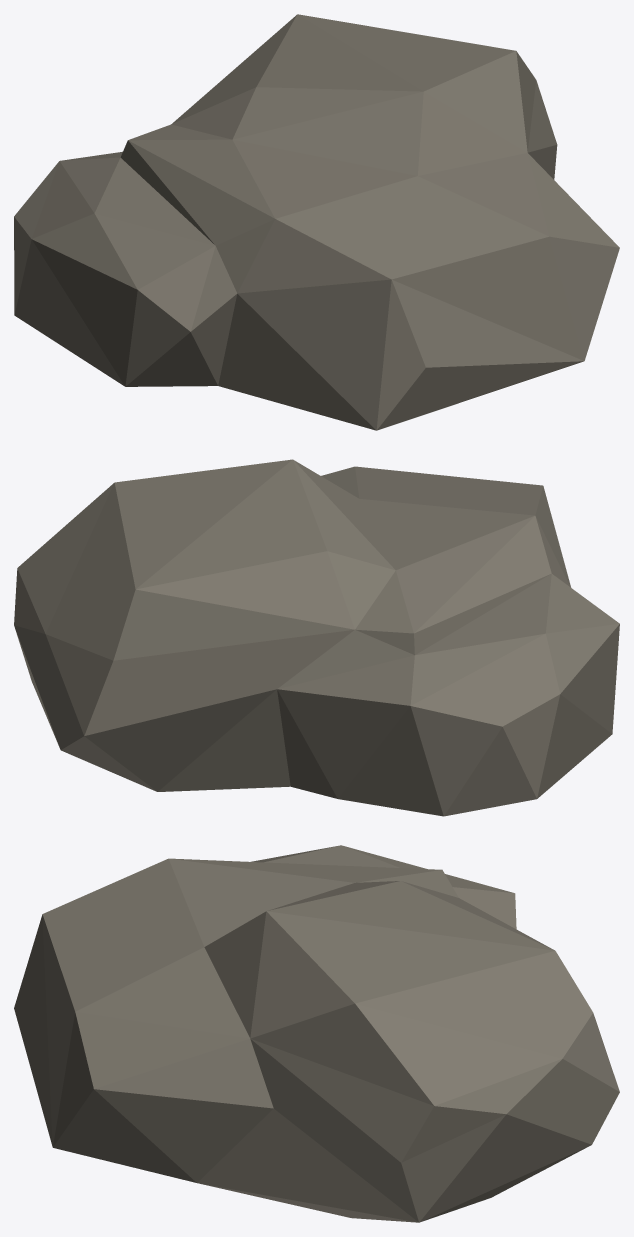
Rendered from rock__rock1_cave_light.glb.
3 views of the same model, one above another, from view 1: azimuth 30°, elevation 25°; view 2: azimuth 150°, elevation 25°; view 3: azimuth 270°, elevation 25° (orthographic). The views are drawn at different scales.
Visible parts, largest first — view 1: rock1.cave.light; view 2: rock1.cave.light; view 3: rock1.cave.light.
Part boxes in pixels (x1,y1,x2,y2): rock1.cave.light: (14,14,619,430); rock1.cave.light: (14,459,619,816); rock1.cave.light: (14,845,619,1222).
Bounding box in the file's own units: 3.01 × 1.28 × 2.94.
1 material, 1 textured.
